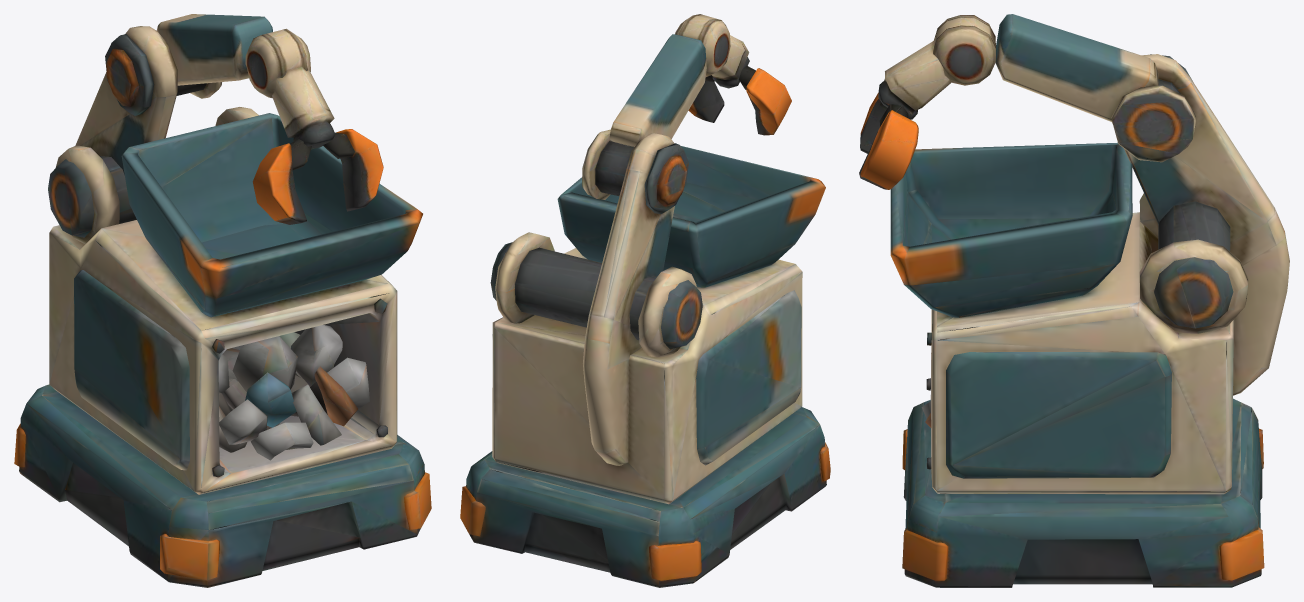
Rendered from extractor-lod0.325251e35966.glb.
The picture shows the model from 3 angles, left to right: view 1: azimuth 30°, elevation 25°; view 2: azimuth 150°, elevation 25°; view 3: azimuth 270°, elevation 25°; orthographic projection. The views are drawn at different scales.
Visible parts, largest first — view 1: geometry_0; view 2: geometry_0; view 3: geometry_0.
Boxes of the visible parts, left/top/right/bottom form: geometry_0: left=14, top=14, right=431, bottom=587; geometry_0: left=460, top=14, right=830, bottom=587; geometry_0: left=859, top=14, right=1289, bottom=587.
Bounding box in the file's own units: 0.5518 × 1 × 0.7767.
1 material, 1 textured.
